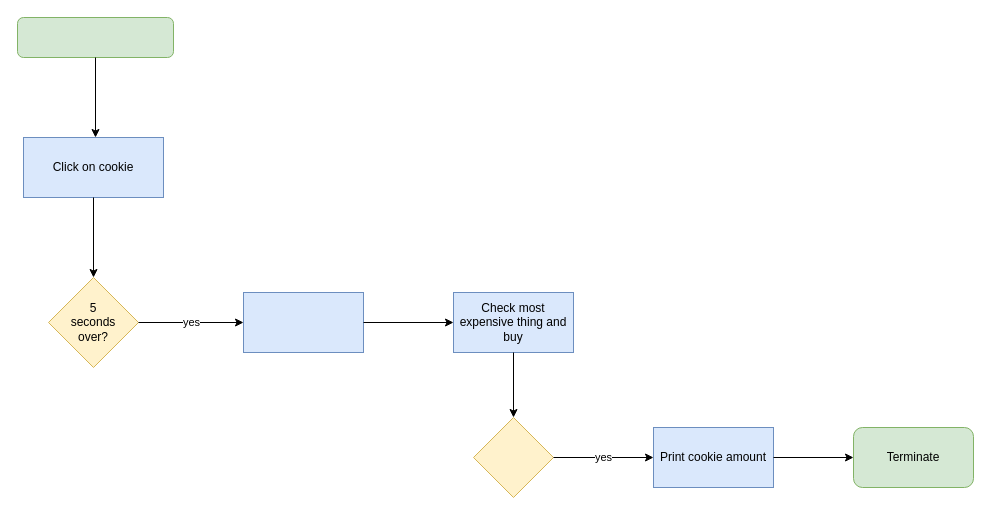
The diagram is 991 pixels wide and 515 high, and some of its shapes have lost their labels. Here are the shapes that lost their labels. From the top down, the centre of each, then its label:
point (95, 37): Start
point (303, 322): Check money
point (513, 457): is 5 minutes over?
